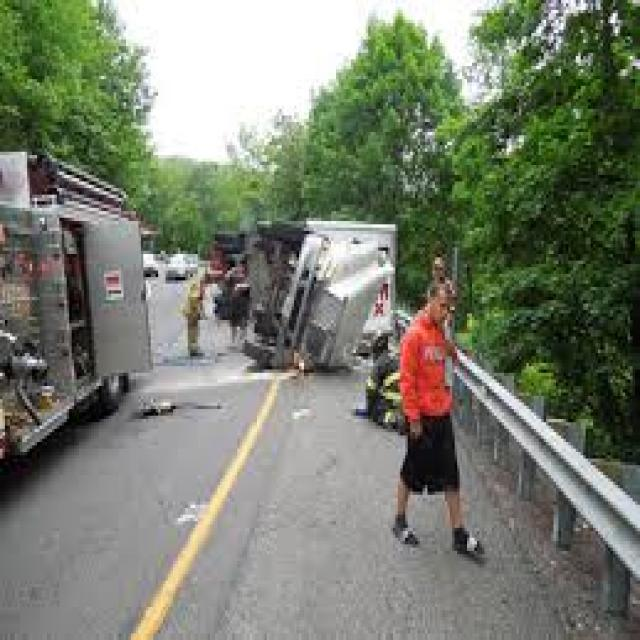accident: (0, 147, 153, 454), (208, 218, 406, 384)
